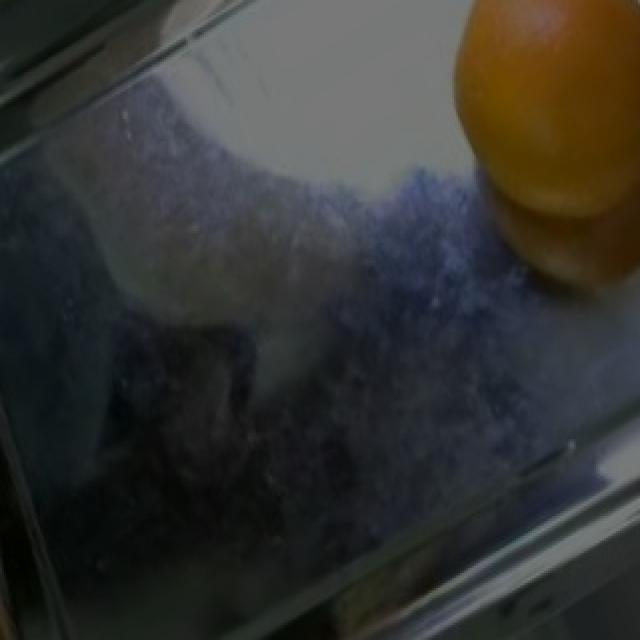Fruit: (424, 0, 640, 243)
